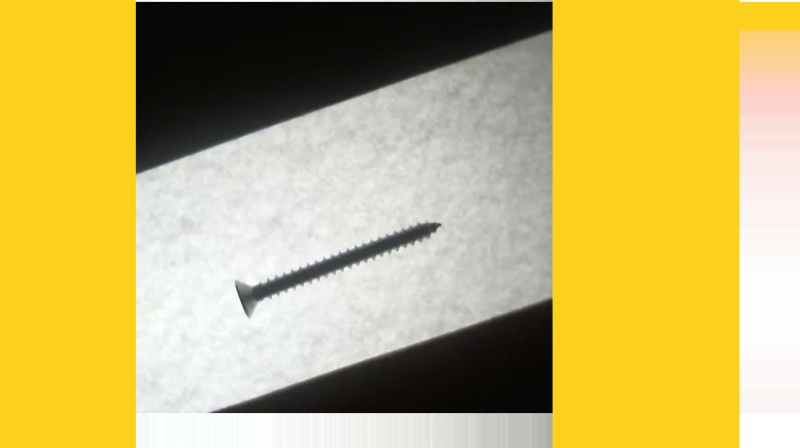S002: (229, 218, 442, 321)
